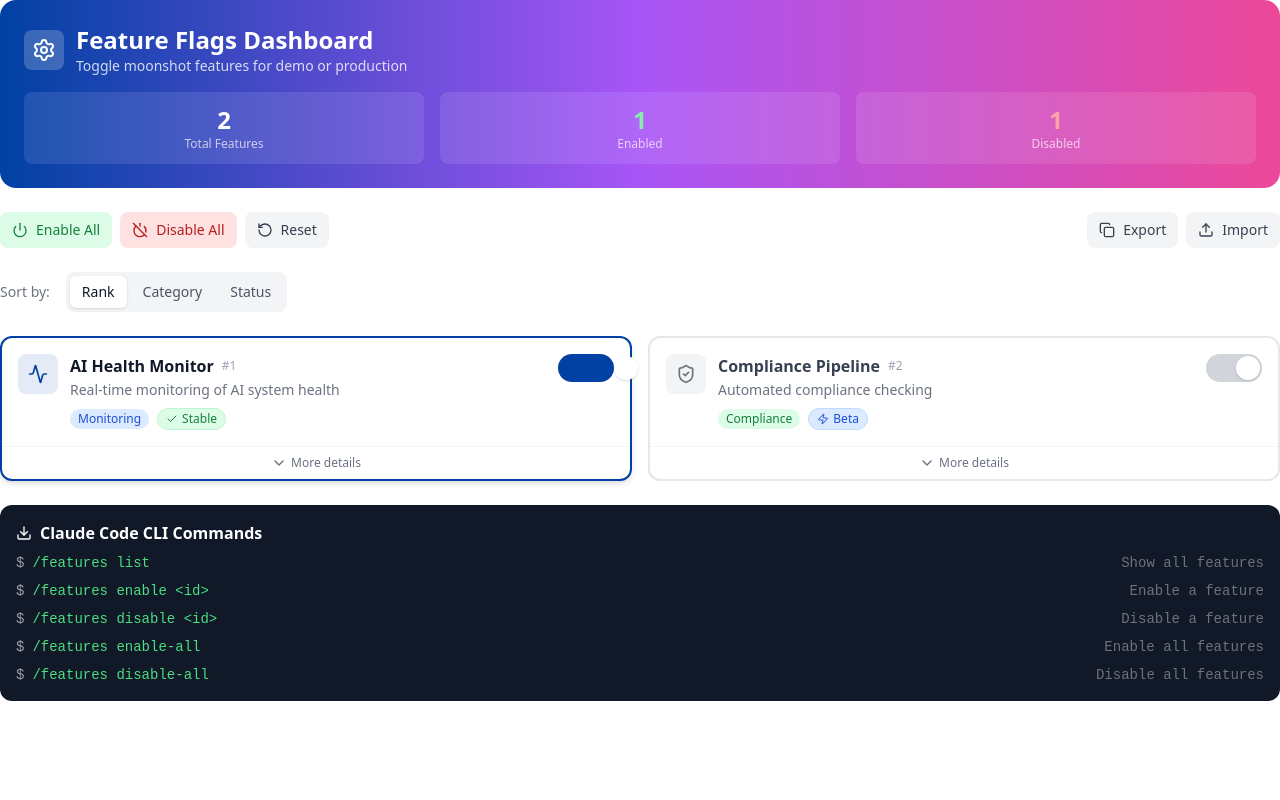
Scenario: FeatureFlagsDashboard › Import Modal › should show import modal when Import clicked
Click the button "Import": click(1233, 230) [1186,212,1279,248]
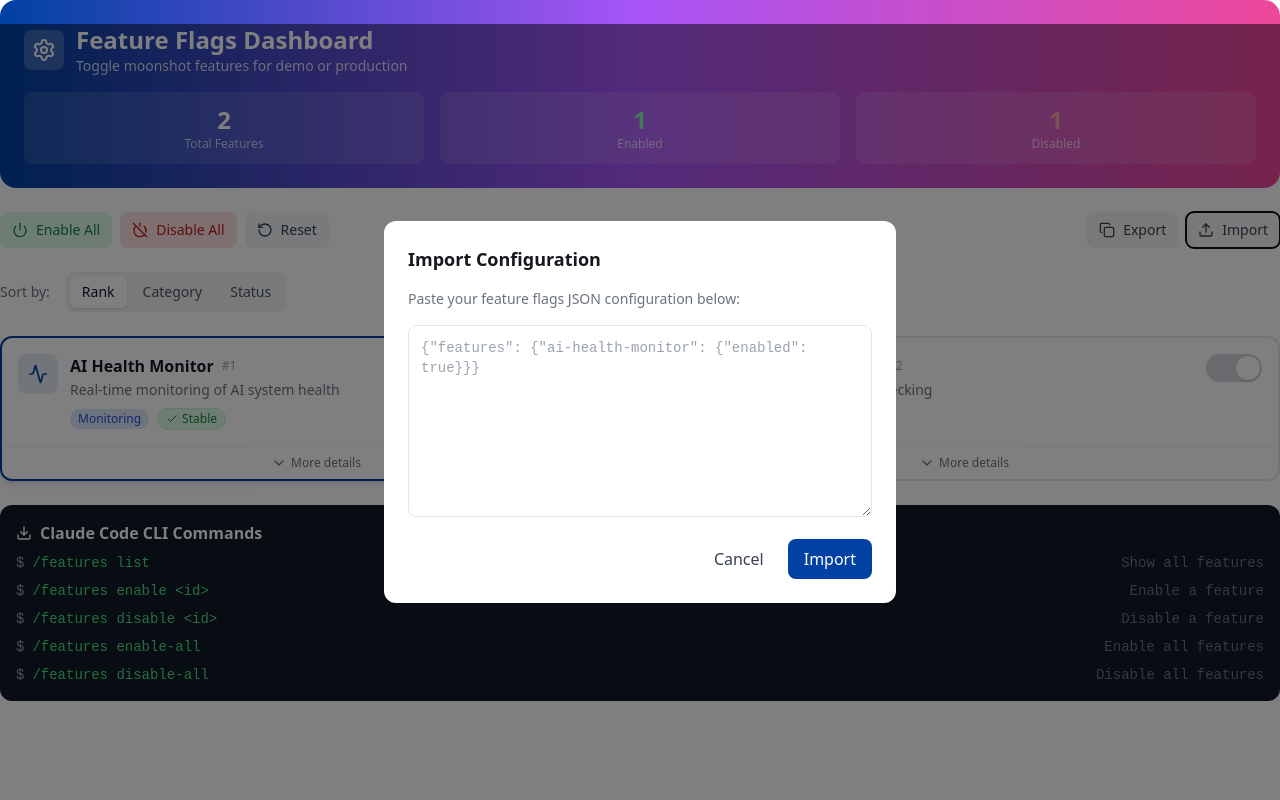
Result: the heading "Import Configuration" is shown at [408,247,601,271]
Result: the text box with placeholder "{\"features\": {\"ai-health-monitor\": {\"enabled\": true}}}" is shown at [408,325,872,517]
